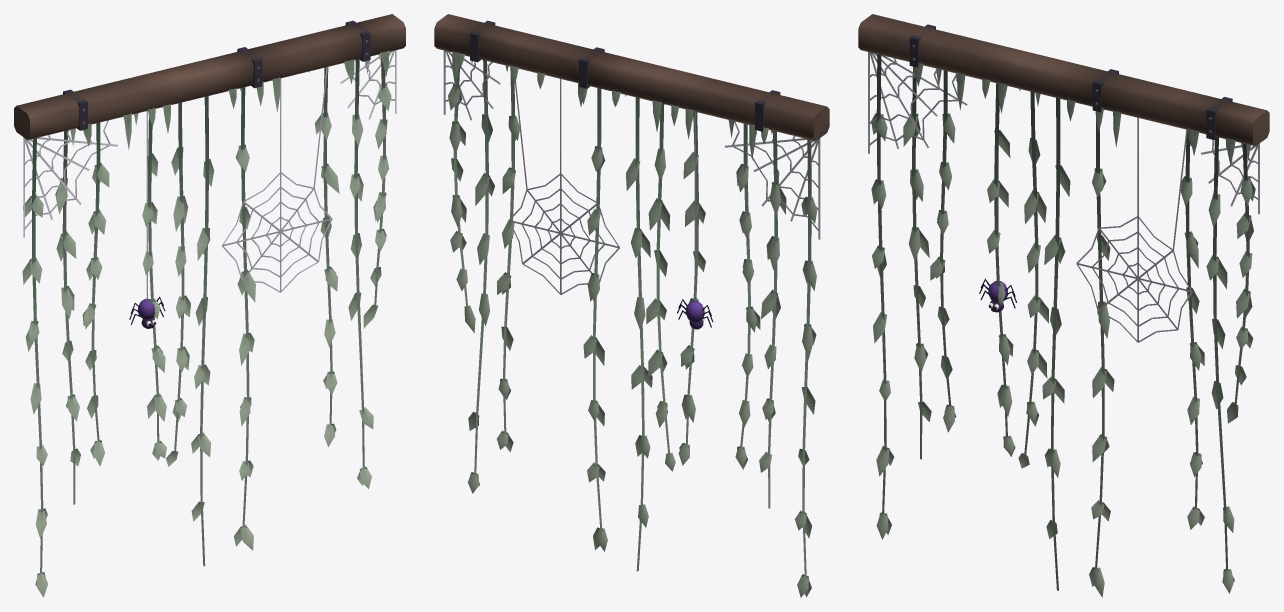
File: curtain_haunted.glb
3 renders of one model, left to right at view 1: azimuth 30°, elevation 25°; view 2: azimuth 150°, elevation 25°; view 3: azimuth 330°, elevation 25°, orthographic. The views are drawn at different scales.
Parts seen in each view (by area): view 1: curtain_haunted; view 2: curtain_haunted; view 3: curtain_haunted.
Boxes of the visible parts, box(x1,y1,x2,y2) form: curtain_haunted: box(14, 14, 405, 597); curtain_haunted: box(434, 14, 829, 597); curtain_haunted: box(858, 14, 1269, 597).
Bounding box in the file's own units: 3.3 × 4.2 × 0.277.
